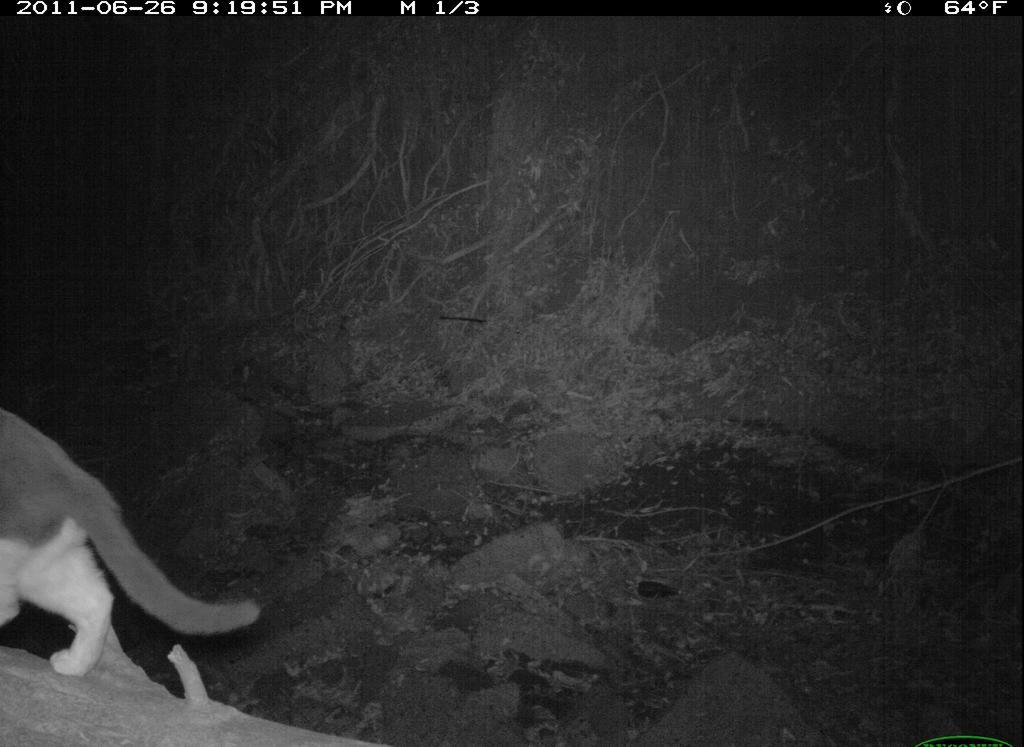cat: (1, 396, 265, 684)
